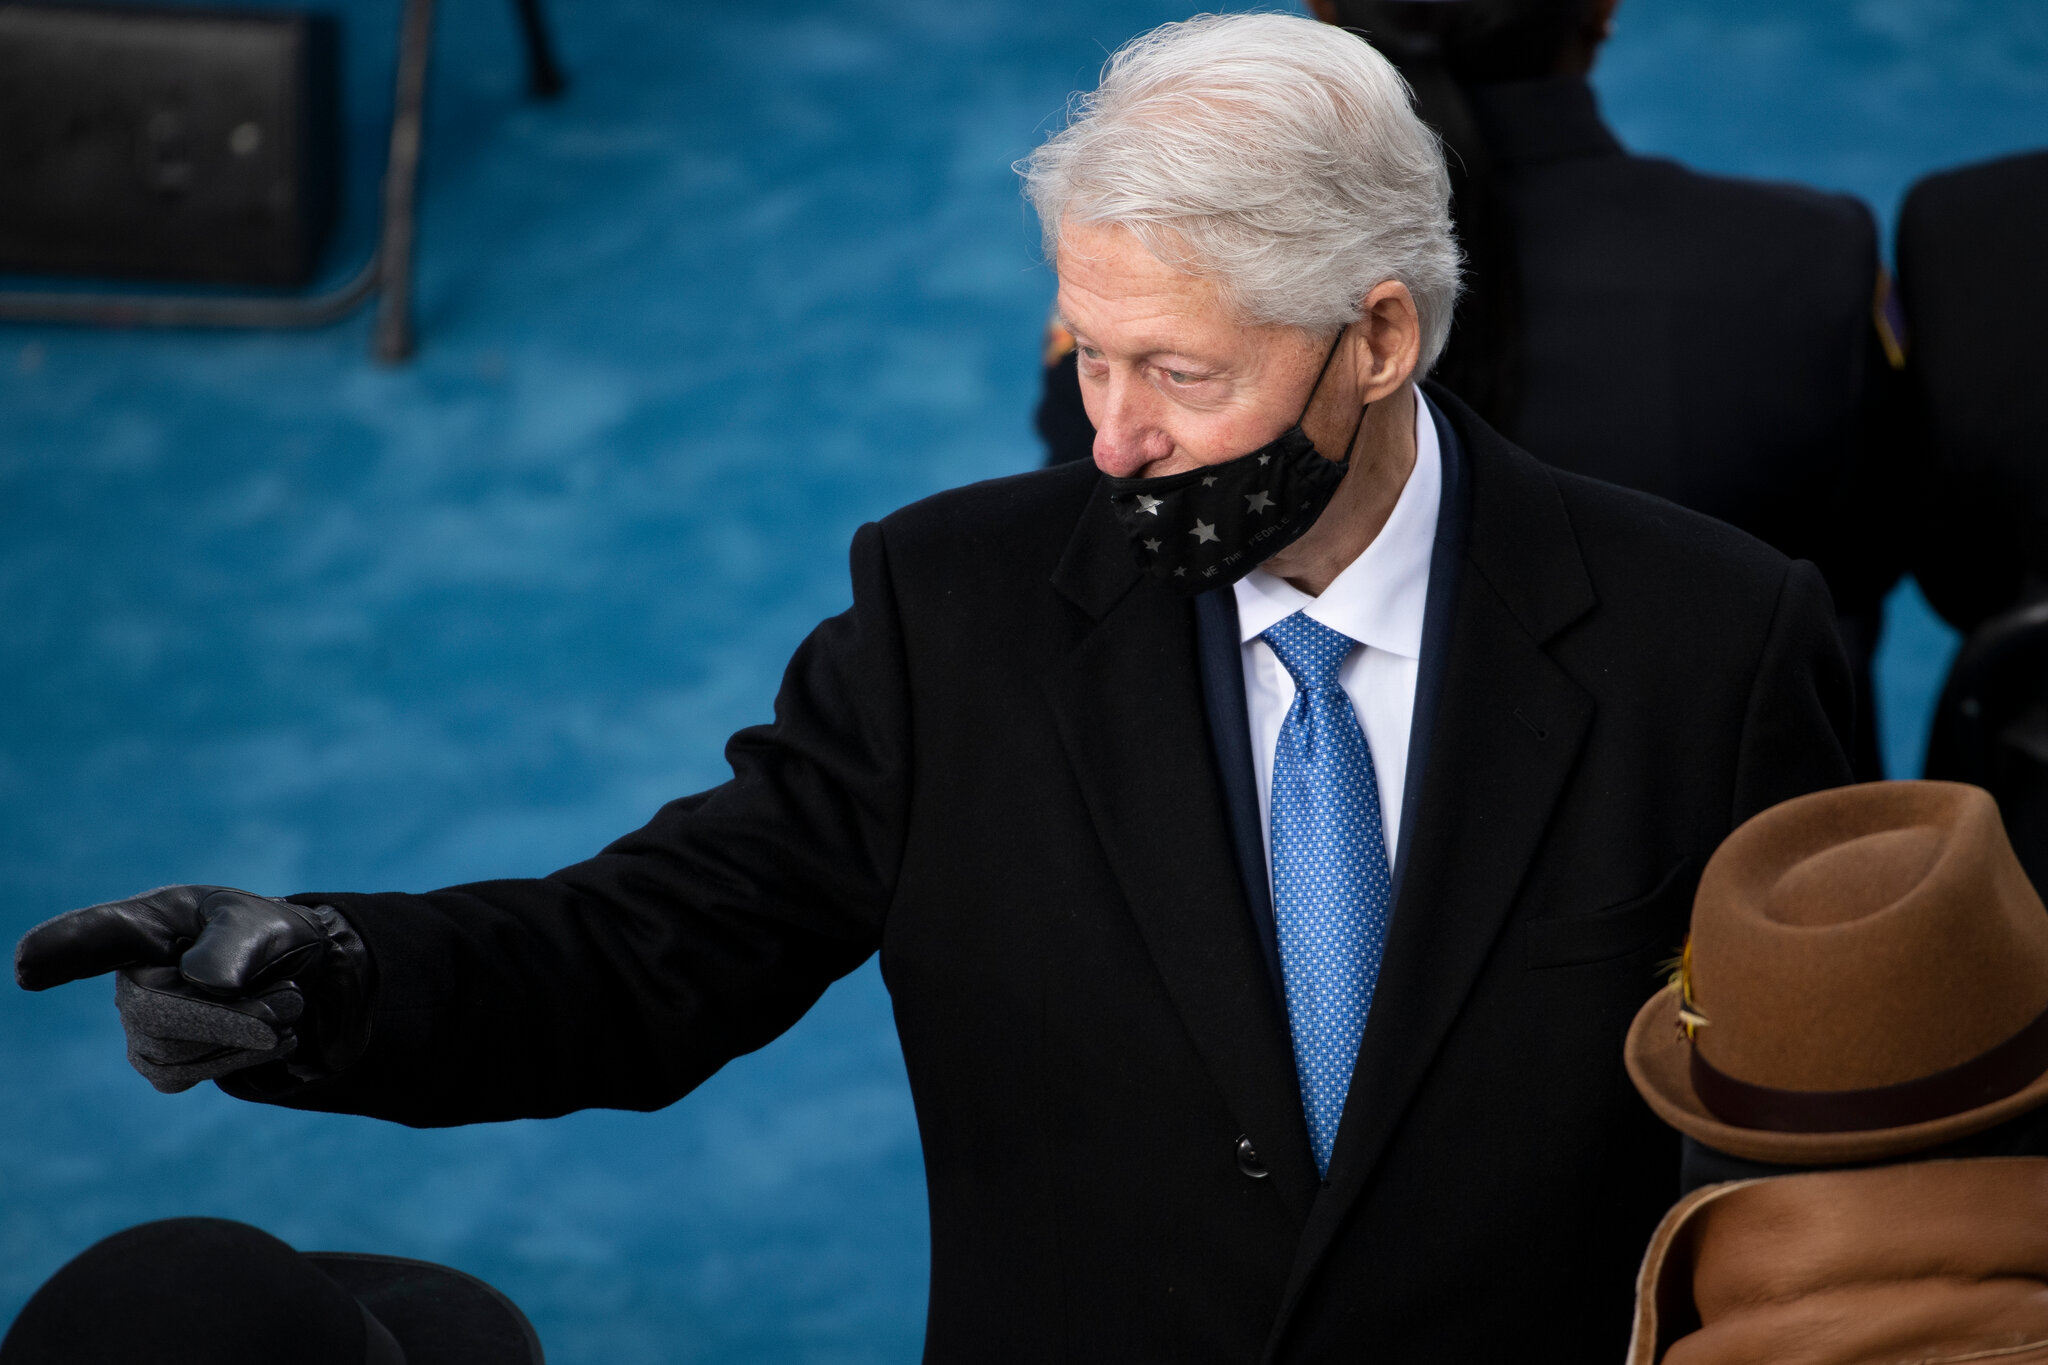with_incorrect_mask: (1040, 212, 1344, 562)
